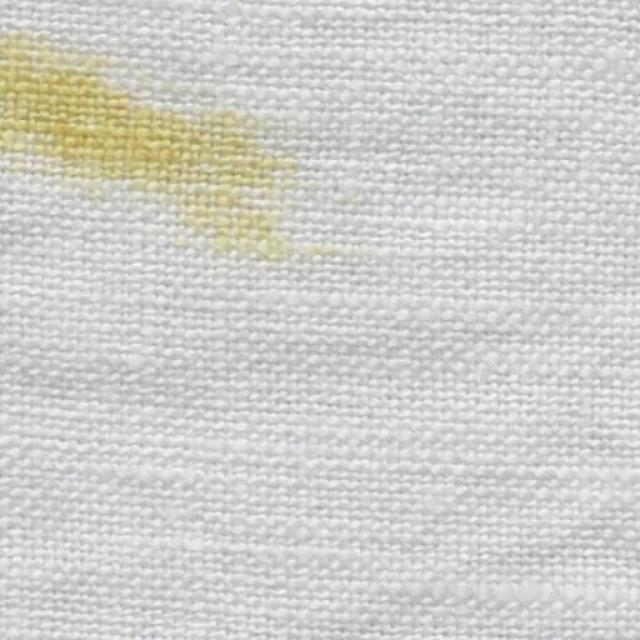Stain: (0, 25, 321, 262)
